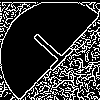T: (24, 25, 81, 78)
